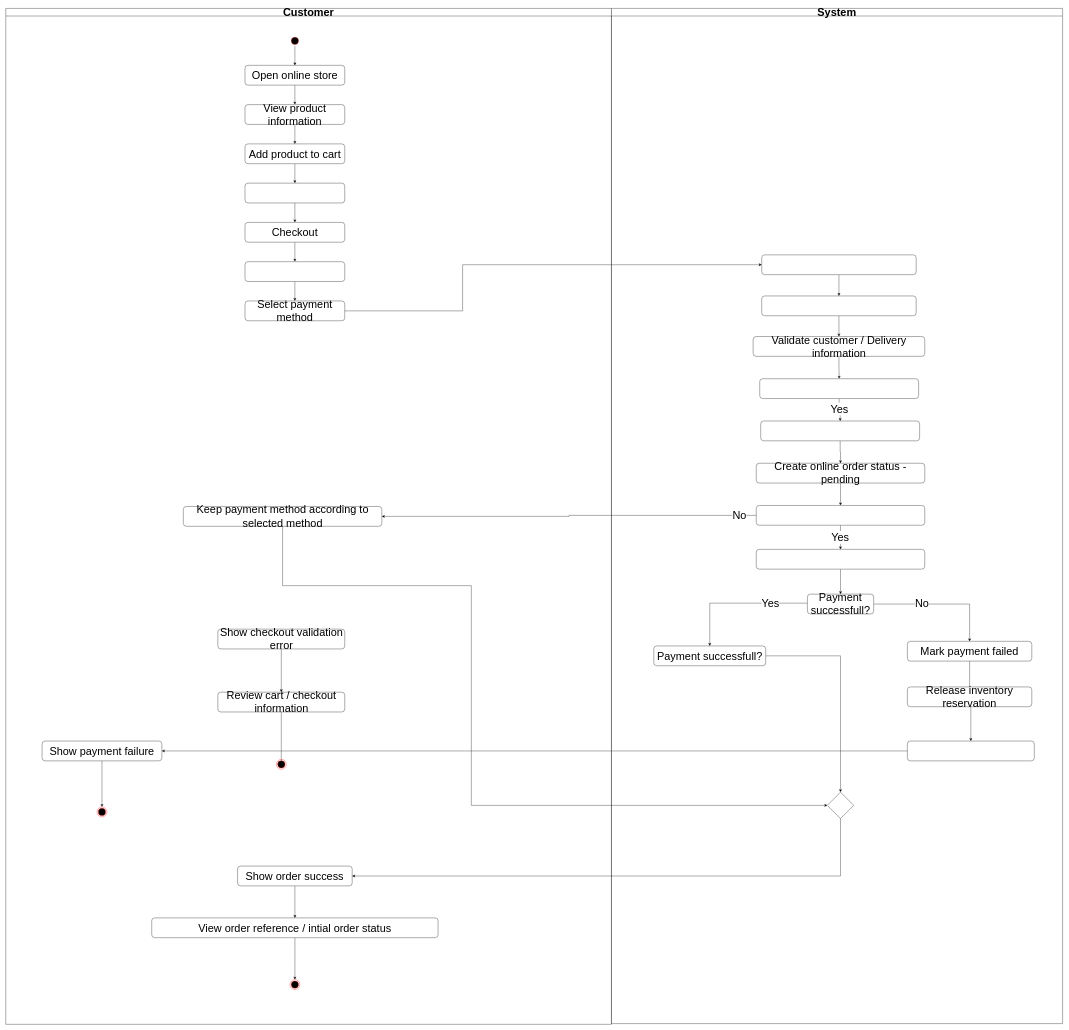
The diagram is 1069 pixels wide and 1030 high, and some of its shapes have lost their labels. The shapes that lost their labels are listed below. From the top down, each one's centre as x and y in pixels, then its label:
the point at 295,193: Update cart quantity
the point at 295,271: Enter delivery information
the point at 838,265: Re-run sale eligibility check
the point at 838,306: Validate available quantity
the point at 839,388: Checkout valid?
the point at 840,431: Reserve inventory
the point at 840,515: Online payment selected?
the point at 840,559: Process online payment if enable
the point at 970,751: Update order status
